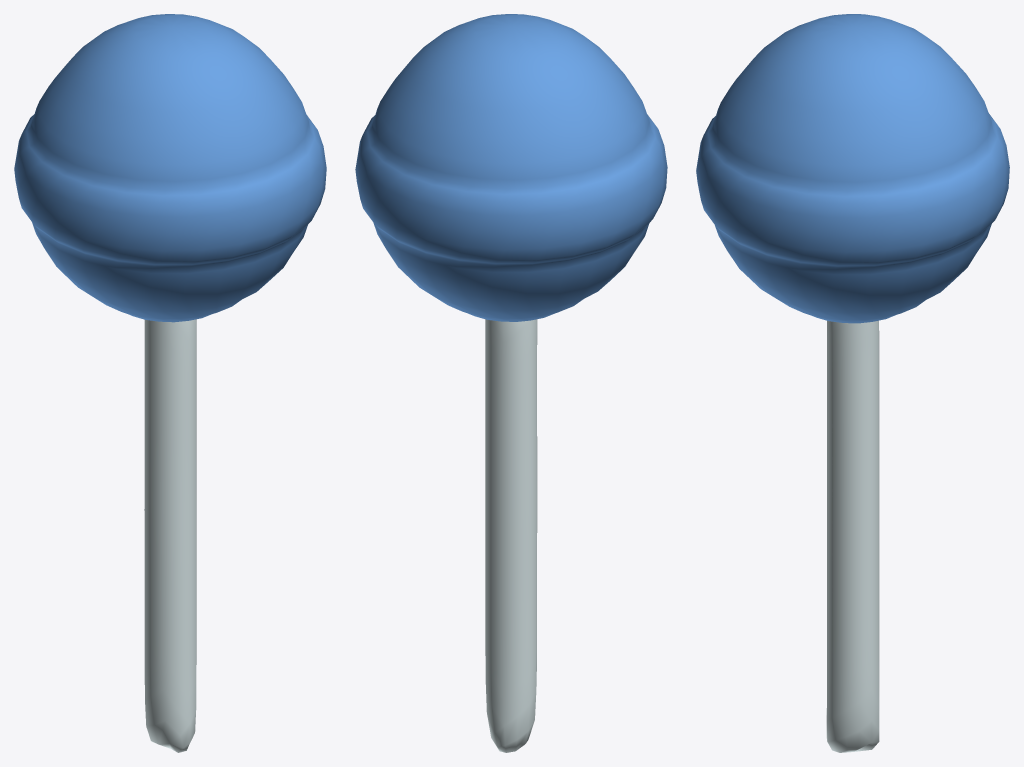
Rendered from Lollipop_A_01.fbx.
The picture shows the model from 3 angles, left to right: view 1: azimuth 30°, elevation 25°; view 2: azimuth 150°, elevation 25°; view 3: azimuth 270°, elevation 25°; orthographic projection.
Parts seen in each view (by area): view 1: Lollipop_A_01_LOD0; view 2: Lollipop_A_01_LOD0; view 3: Lollipop_A_01_LOD0.
Part boxes in pixels (x1=…): Lollipop_A_01_LOD0: x1=14, y1=14, x2=326, y2=752; Lollipop_A_01_LOD0: x1=355, y1=14, x2=667, y2=752; Lollipop_A_01_LOD0: x1=696, y1=14, x2=1009, y2=752.
Size of what is drawn, in the model's own units: 440 by 1123 by 440.
